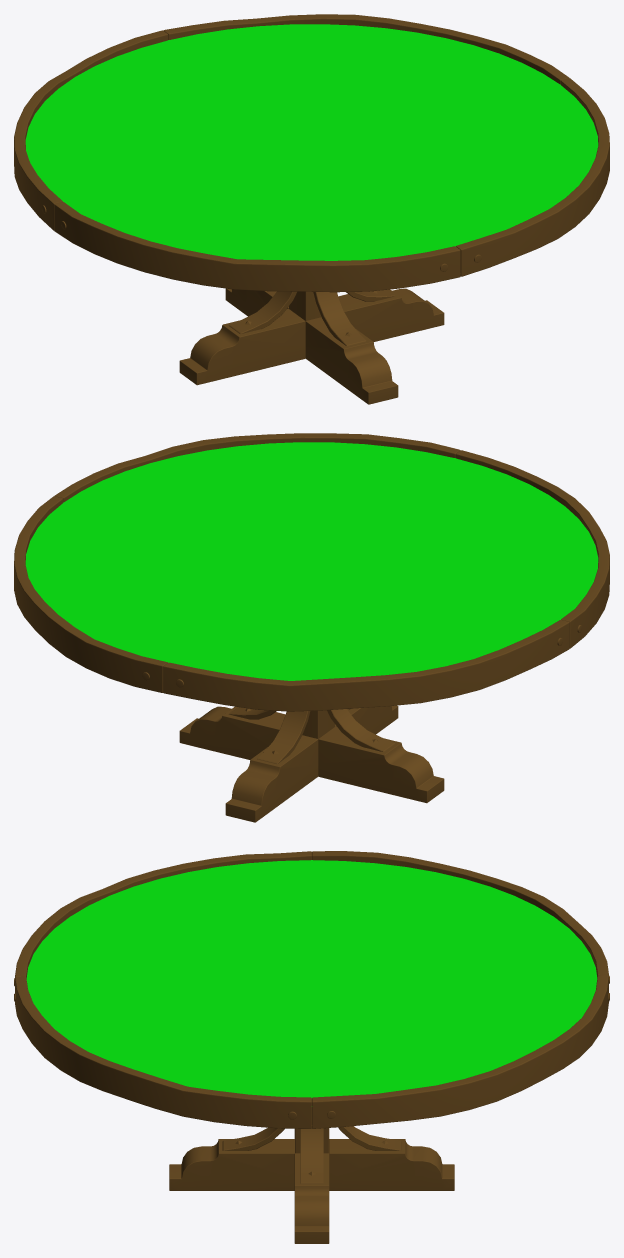
File: pokertable.fbx
3 renders of one model, top to bottom at view 1: azimuth 30°, elevation 25°; view 2: azimuth 150°, elevation 25°; view 3: azimuth 270°, elevation 25°, orthographic.
Visible parts, largest first — view 1: tablemat; view 2: tablemat; view 3: tablemat.
Part boxes in pixels (x1,y1,x2,y2): tablemat: (14,14,609,404); tablemat: (14,433,609,822); tablemat: (14,851,609,1243).
Size of the model in its own units: 1393 by 540 by 1393.
